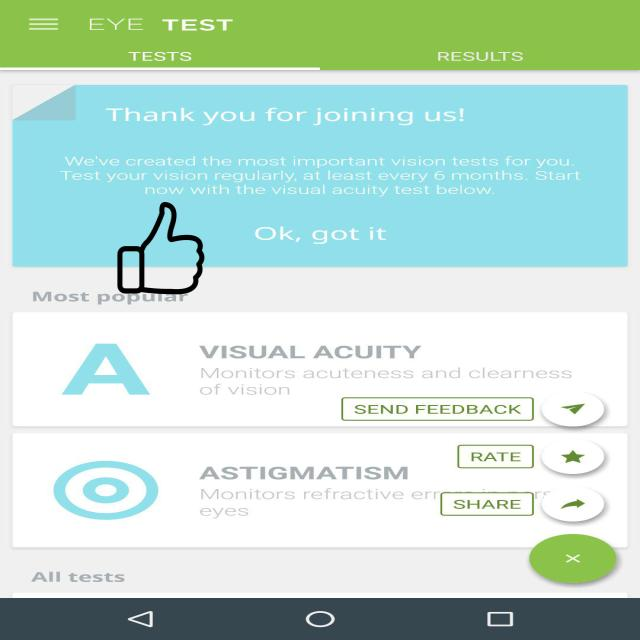privacy zuckering: (116, 202, 206, 294)
